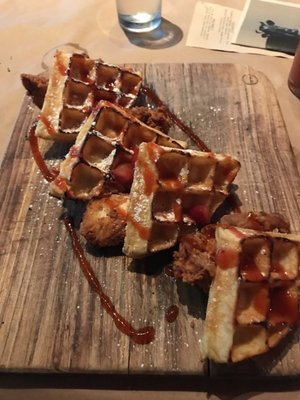pizza: (116, 0, 162, 34)
